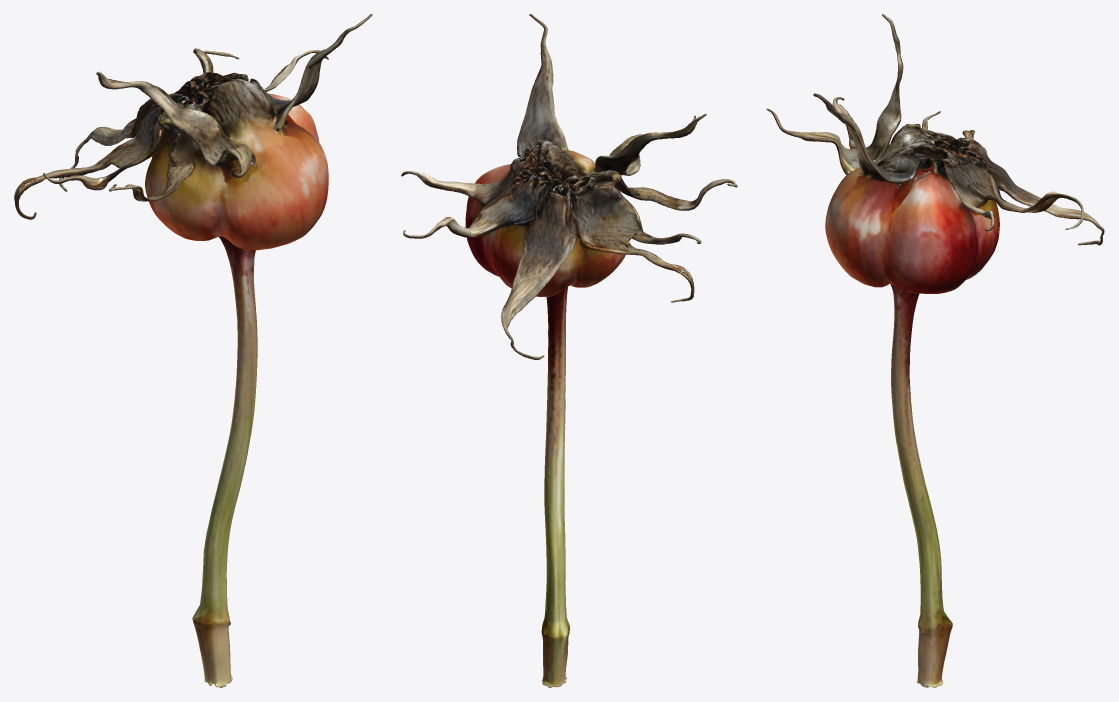
File: tomato.glb
The picture shows the model from 3 angles, left to right: view 1: azimuth 30°, elevation 25°; view 2: azimuth 150°, elevation 25°; view 3: azimuth 270°, elevation 25°; orthographic projection. The views are drawn at different scales.
Visible parts, largest first — view 1: tripo_node_cbfae591-9c09-4301-800c-4be34721ed74; view 2: tripo_node_cbfae591-9c09-4301-800c-4be34721ed74; view 3: tripo_node_cbfae591-9c09-4301-800c-4be34721ed74.
Boxes of the visible parts, x1=… form: tripo_node_cbfae591-9c09-4301-800c-4be34721ed74: x1=14, y1=14, x2=372, y2=687; tripo_node_cbfae591-9c09-4301-800c-4be34721ed74: x1=401, y1=14, x2=737, y2=687; tripo_node_cbfae591-9c09-4301-800c-4be34721ed74: x1=766, y1=14, x2=1104, y2=687.
Bounding box in the file's own units: 0.4868 × 1 × 0.4862.
Materials: 1 (1 with a texture image).
